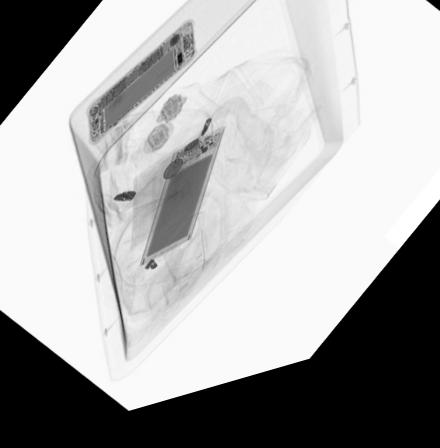Powerbank: (135, 134, 227, 278)
